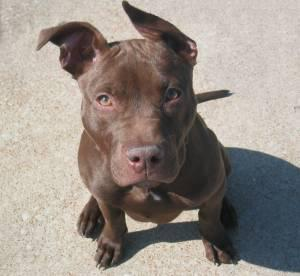dog-american_pit_bull_terrier: (35, 0, 195, 187)
